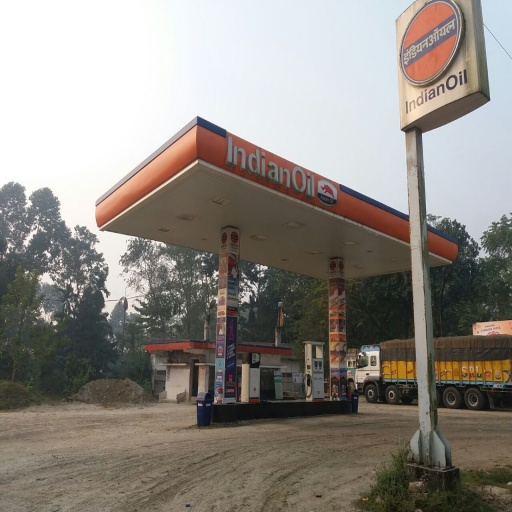roof: (98, 118, 457, 299)
